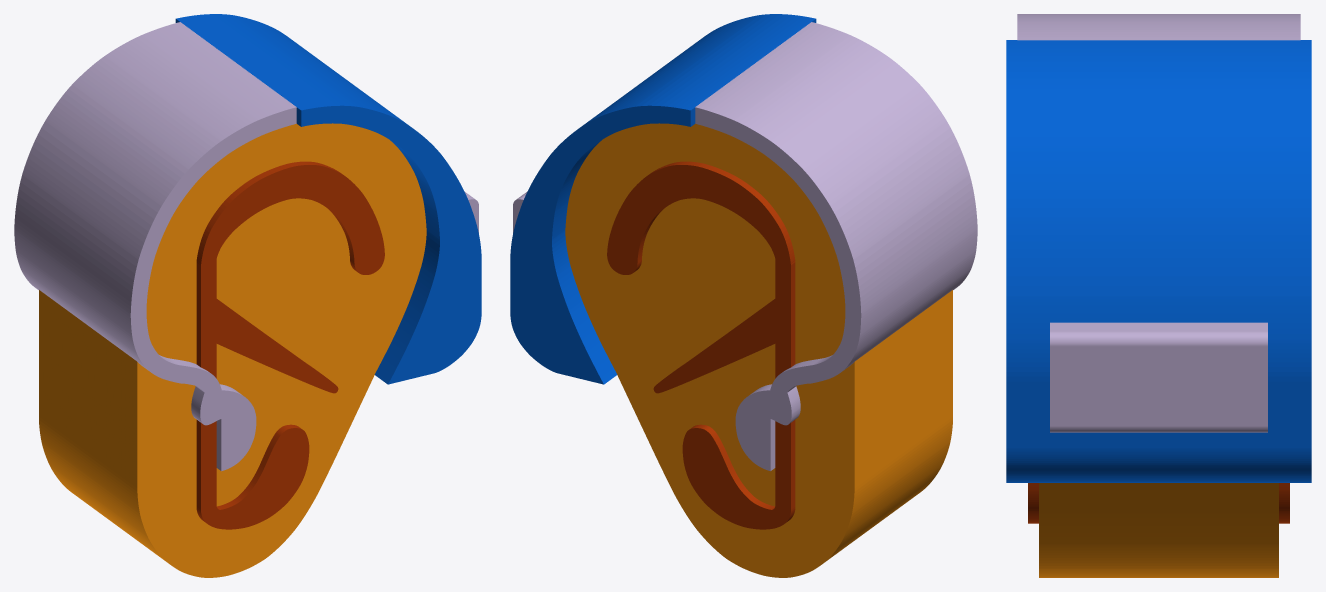
The picture shows the model from 3 angles, left to right: view 1: azimuth 30°, elevation 25°; view 2: azimuth 150°, elevation 25°; view 3: azimuth 270°, elevation 25°; orthographic projection. The views are drawn at different scales.
Parts seen in each view (by area): view 1: U+1F9BB_layer01_obj00, U+1F9BB_layer03_obj00, U+1F9BB_layer04_obj00, U+1F9BB_layer02_obj00; view 2: U+1F9BB_layer01_obj00, U+1F9BB_layer03_obj00, U+1F9BB_layer04_obj00, U+1F9BB_layer02_obj00; view 3: U+1F9BB_layer04_obj00, U+1F9BB_layer00_obj00, U+1F9BB_layer01_obj00, U+1F9BB_layer03_obj00, U+1F9BB_layer02_obj00.
Part boxes in pixels (<box>): U+1F9BB_layer01_obj00: <box>39,123,426,577</box>; U+1F9BB_layer03_obj00: <box>14,22,296,471</box>; U+1F9BB_layer04_obj00: <box>175,14,481,384</box>; U+1F9BB_layer02_obj00: <box>196,161,384,529</box>; U+1F9BB_layer01_obj00: <box>565,123,952,577</box>; U+1F9BB_layer03_obj00: <box>695,22,977,471</box>; U+1F9BB_layer04_obj00: <box>510,14,816,384</box>; U+1F9BB_layer02_obj00: <box>607,161,795,529</box>; U+1F9BB_layer04_obj00: <box>1006,40,1311,482</box>; U+1F9BB_layer00_obj00: <box>1050,322,1267,432</box>; U+1F9BB_layer01_obj00: <box>1039,483,1278,577</box>; U+1F9BB_layer03_obj00: <box>1017,14,1300,40</box>; U+1F9BB_layer02_obj00: <box>1028,483,1289,523</box>.
Bounding box in the file's own units: 0.4662 × 0.5672 × 0.28.
